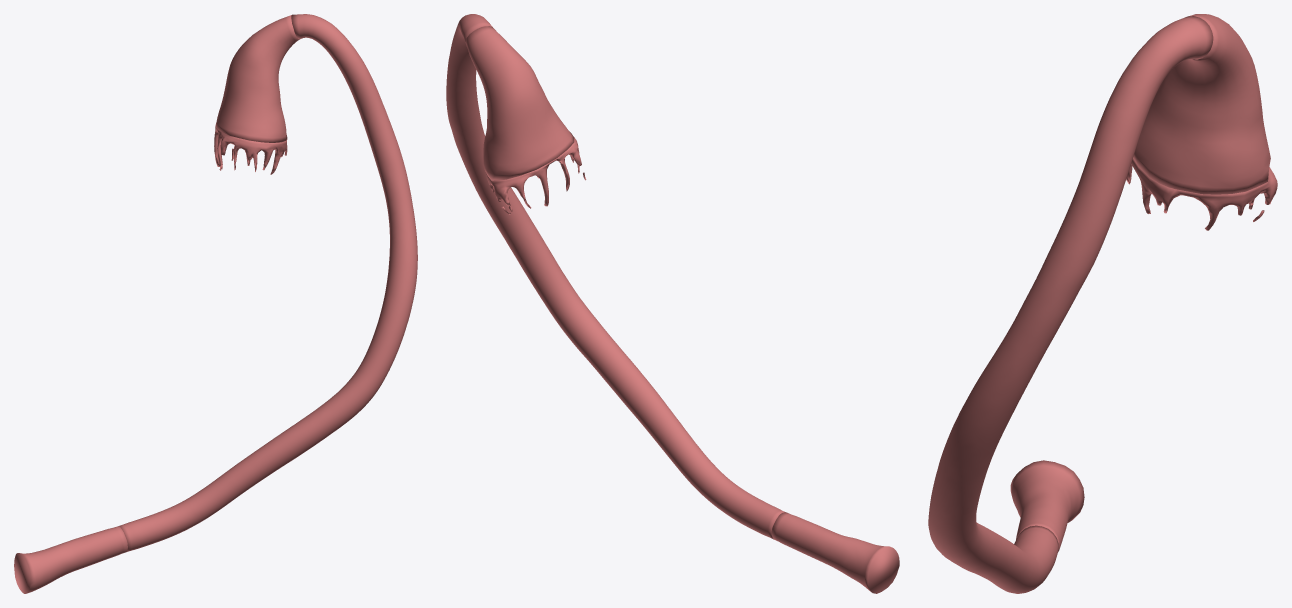
The picture shows the model from 3 angles, left to right: view 1: azimuth 30°, elevation 25°; view 2: azimuth 150°, elevation 25°; view 3: azimuth 270°, elevation 25°; orthographic projection. The views are drawn at different scales.
Visible parts, largest first — view 1: VH_F_ampulla_of_uterine_tube_L, VH_F_uterine_tube_infundibulum_L, VH_F_isthmus_of_fallopian_tube_L, VH_F_fibria_of_uterine_tube_L; view 2: VH_F_ampulla_of_uterine_tube_L, VH_F_uterine_tube_infundibulum_L, VH_F_isthmus_of_fallopian_tube_L, VH_F_fibria_of_uterine_tube_L; view 3: VH_F_ampulla_of_uterine_tube_L, VH_F_uterine_tube_infundibulum_L, VH_F_isthmus_of_fallopian_tube_L, VH_F_fibria_of_uterine_tube_L.
Part boxes in pixels (x1=…): VH_F_ampulla_of_uterine_tube_L: x1=118, y1=14, x2=417, y2=551; VH_F_uterine_tube_infundibulum_L: x1=215, y1=15, x2=299, y2=142; VH_F_isthmus_of_fallopian_tube_L: x1=14, y1=526, x2=127, y2=593; VH_F_fibria_of_uterine_tube_L: x1=214, y1=127, x2=287, y2=174; VH_F_ampulla_of_uterine_tube_L: x1=446, y1=14, x2=785, y2=539; VH_F_uterine_tube_infundibulum_L: x1=465, y1=26, x2=574, y2=180; VH_F_isthmus_of_fallopian_tube_L: x1=771, y1=512, x2=899, y2=593; VH_F_fibria_of_uterine_tube_L: x1=486, y1=137, x2=586, y2=214; VH_F_ampulla_of_uterine_tube_L: x1=928, y1=16, x2=1213, y2=593; VH_F_uterine_tube_infundibulum_L: x1=1133, y1=14, x2=1270, y2=194; VH_F_isthmus_of_fallopian_tube_L: x1=1010, y1=460, x2=1084, y2=551; VH_F_fibria_of_uterine_tube_L: x1=1126, y1=158, x2=1277, y2=230.
Bounding box in the file's own units: 0.0386 × 0.0445 × 0.0185.
